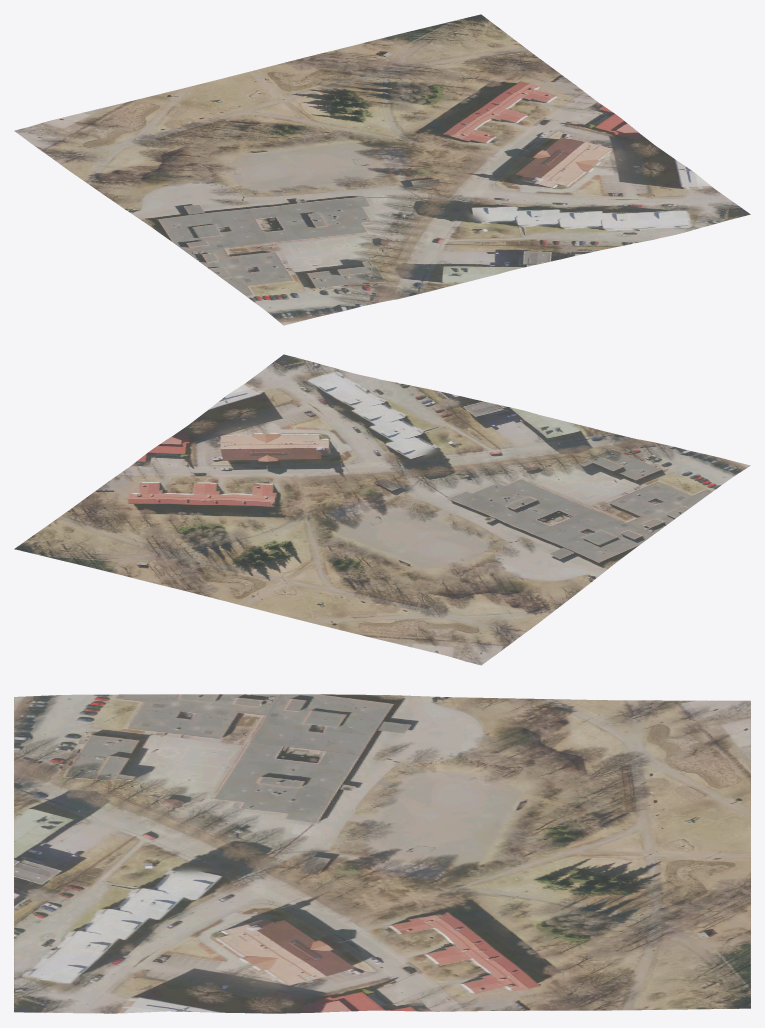
Rendered from CM_Terrain_24489230_6821022.fbx.
3 views of the same model, one above another, from view 1: azimuth 30°, elevation 25°; view 2: azimuth 150°, elevation 25°; view 3: azimuth 270°, elevation 25° (orthographic). The views are drawn at different scales.
Visible parts, largest first — view 1: CM_Terrain_24489230_6821022_LOD0; view 2: CM_Terrain_24489230_6821022_LOD0; view 3: CM_Terrain_24489230_6821022_LOD0.
Part boxes in pixels (box(x1,y1,x2,y2)): CM_Terrain_24489230_6821022_LOD0: box(14, 14, 750, 325); CM_Terrain_24489230_6821022_LOD0: box(14, 354, 750, 665); CM_Terrain_24489230_6821022_LOD0: box(14, 694, 750, 1013).
Size of what is drawn, in the model's own units: 205 by 3.07 by 205.
